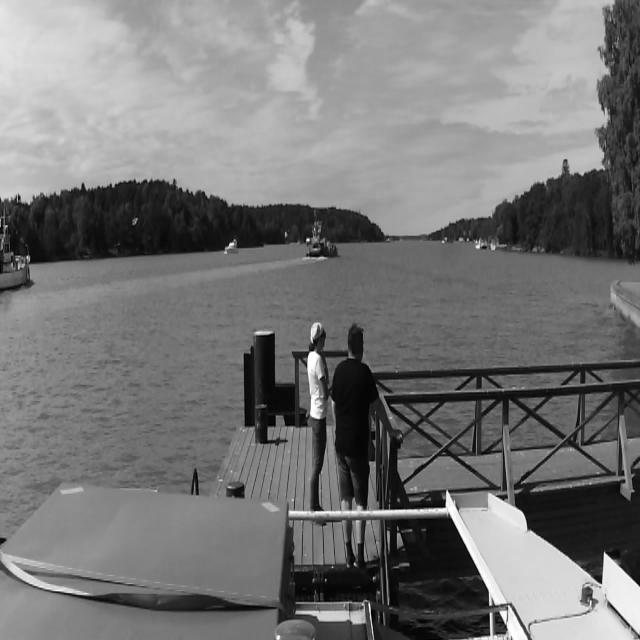ship: (0, 198, 30, 294), (306, 220, 338, 258), (225, 238, 239, 254), (473, 235, 487, 249), (491, 244, 496, 252)
